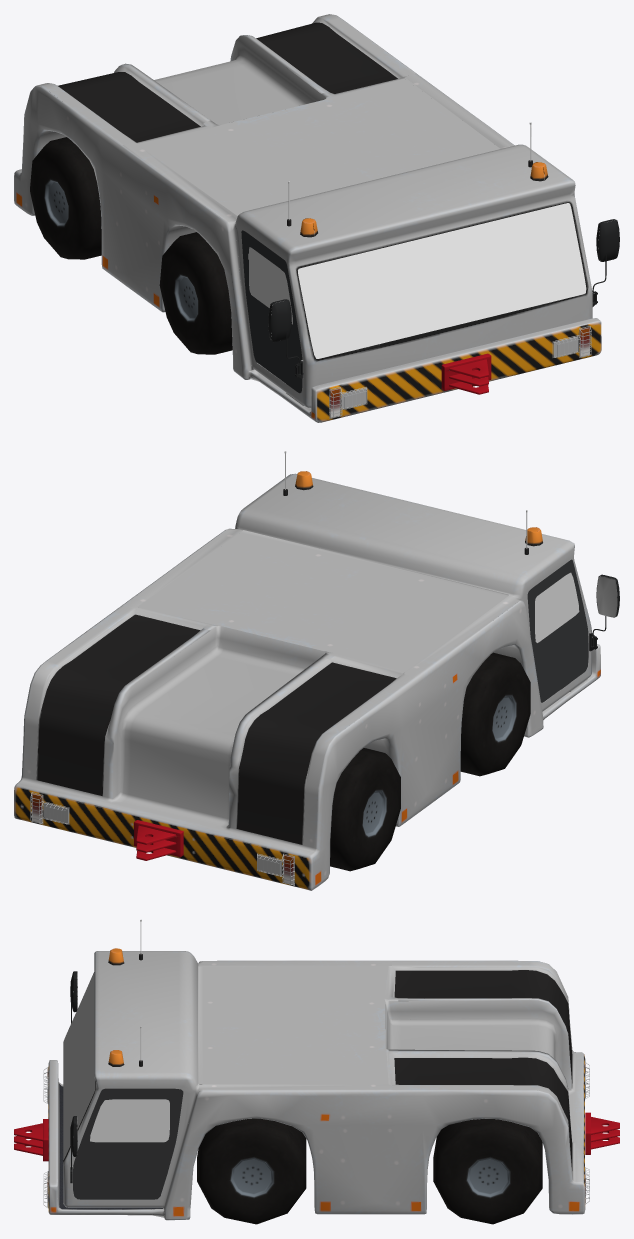
Rendered from TOWING TRUCK.fbx.
3 views of the same model, one above another, from view 1: azimuth 30°, elevation 25°; view 2: azimuth 150°, elevation 25°; view 3: azimuth 270°, elevation 25° (orthographic). The views are drawn at different scales.
Parts seen in each view (by area): view 1: SM_Aircraft_Towing_Tractor.003_T_Aircraft_Towing_Truck_0, SM_Tires.007_T_Aircraft_Towing_Truck_0.002, SM_Tires.007_T_Aircraft_Towing_Truck_0.003; view 2: SM_Aircraft_Towing_Tractor.003_T_Aircraft_Towing_Truck_0, SM_Tires.007_T_Aircraft_Towing_Truck_0.002, SM_Tires.007_T_Aircraft_Towing_Truck_0.003; view 3: SM_Aircraft_Towing_Tractor.003_T_Aircraft_Towing_Truck_0, SM_Tires.007_T_Aircraft_Towing_Truck_0.001, SM_Tires.007_T_Aircraft_Towing_Truck_0.
Boxes of the visible parts, x1,y1,x2,y2 form: SM_Aircraft_Towing_Tractor.003_T_Aircraft_Towing_Truck_0: [14, 14, 619, 422]; SM_Tires.007_T_Aircraft_Towing_Truck_0.002: [30, 137, 101, 259]; SM_Tires.007_T_Aircraft_Towing_Truck_0.003: [159, 232, 232, 354]; SM_Aircraft_Towing_Tractor.003_T_Aircraft_Towing_Truck_0: [14, 451, 619, 890]; SM_Tires.007_T_Aircraft_Towing_Truck_0.002: [330, 748, 400, 871]; SM_Tires.007_T_Aircraft_Towing_Truck_0.003: [460, 652, 530, 776]; SM_Aircraft_Towing_Tractor.003_T_Aircraft_Towing_Truck_0: [14, 919, 619, 1220]; SM_Tires.007_T_Aircraft_Towing_Truck_0.001: [433, 1119, 542, 1224]; SM_Tires.007_T_Aircraft_Towing_Truck_0: [197, 1118, 306, 1224].
Bounding box in the file's own units: 427 × 244 × 708.
